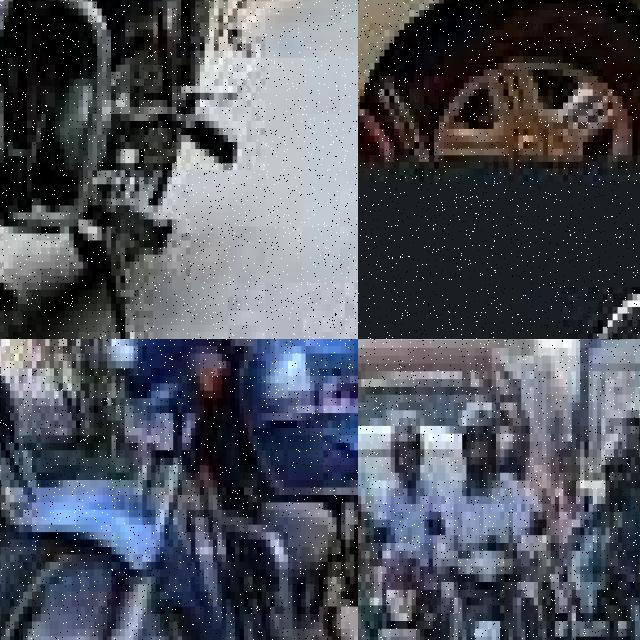bike: (0, 0, 321, 339), (0, 339, 358, 640), (441, 519, 550, 640), (563, 496, 640, 640), (374, 535, 433, 640)
car: (358, 0, 640, 135)
